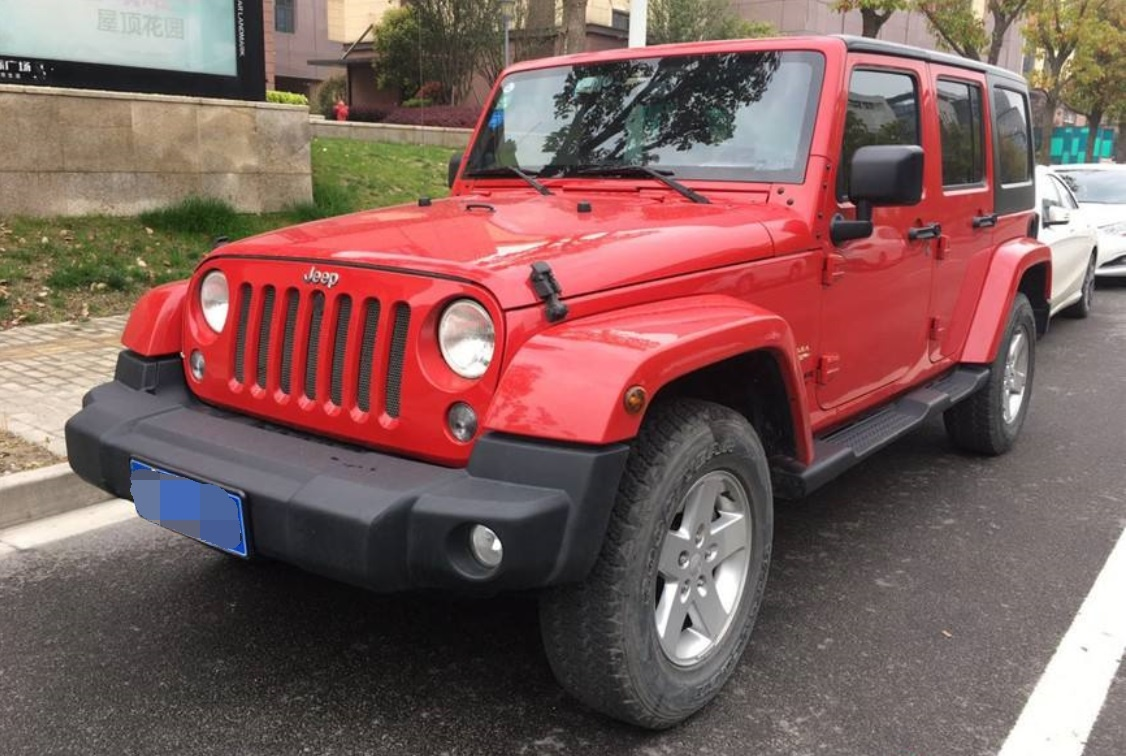jeep: (67, 24, 1063, 713)
